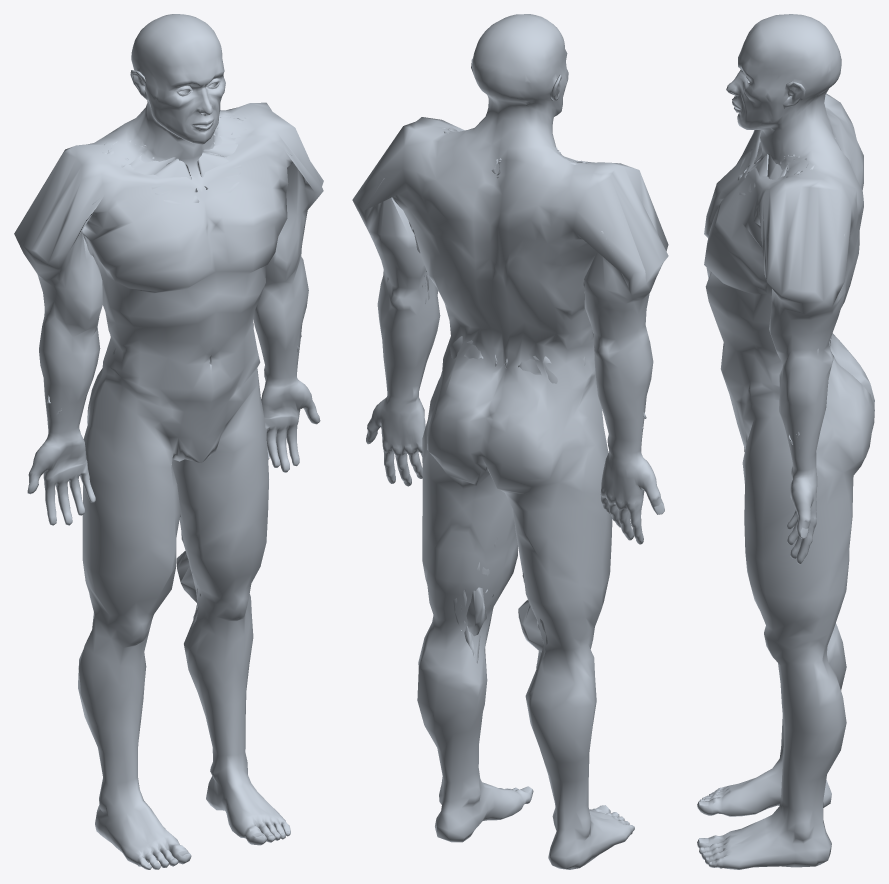
Rendered from body-map.glb.
The picture shows the model from 3 angles, left to right: view 1: azimuth 30°, elevation 25°; view 2: azimuth 150°, elevation 25°; view 3: azimuth 270°, elevation 25°; orthographic projection. The views are drawn at different scales.
Parts seen in each view (by area): view 1: shell, base, chest, calves; view 2: shell, base, calves, glutes; view 3: shell, base, chest.
Part boxes in pixels (<box>): shell: <box>14,49,323,656</box>; base: <box>27,14,320,869</box>; chest: <box>125,133,241,205</box>; calves: <box>176,532,200,626</box>; shell: <box>352,56,668,708</box>; base: <box>366,14,664,869</box>; calves: <box>453,562,547,667</box>; glutes: <box>450,336,585,383</box>; shell: <box>704,49,865,693</box>; base: <box>697,14,874,869</box>; chest: <box>738,142,789,195</box>.
Size of the model in its own units: 0.5461 by 1.44 by 0.2841.
